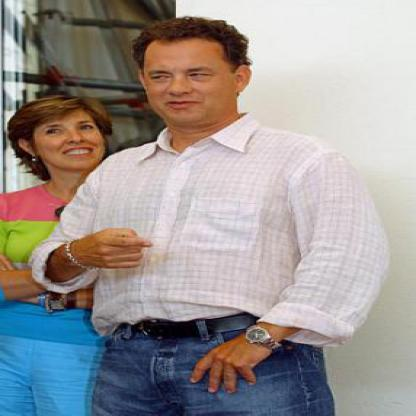face: (140, 25, 239, 128), (31, 100, 108, 175)
